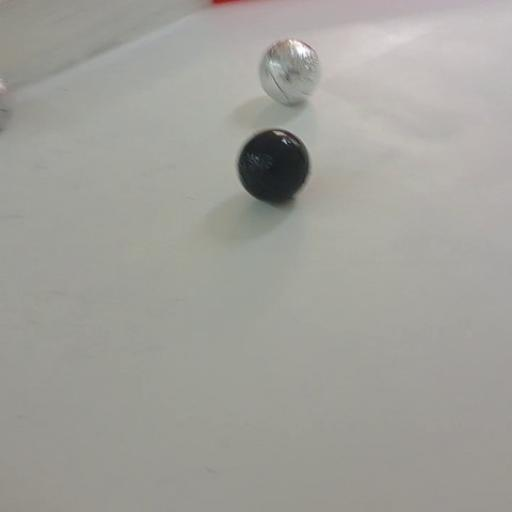alive: (258, 38, 323, 106), (0, 84, 14, 132)
dead: (236, 127, 312, 204)
